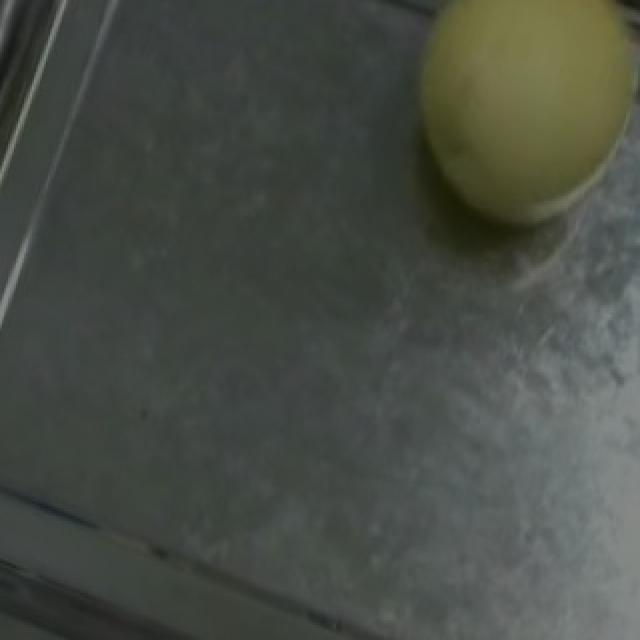Fruit: (372, 0, 640, 260)
